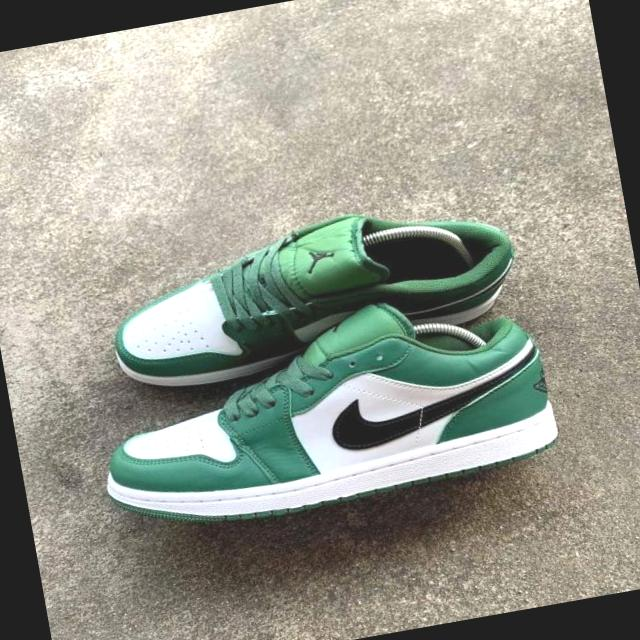nike_fake_jordan: (77, 275, 566, 542), (95, 188, 528, 402)
